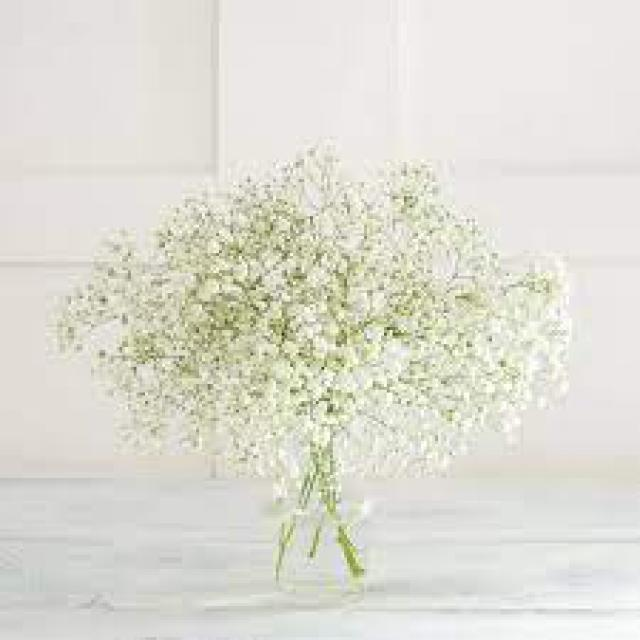gypsophila: (69, 91, 592, 528)
